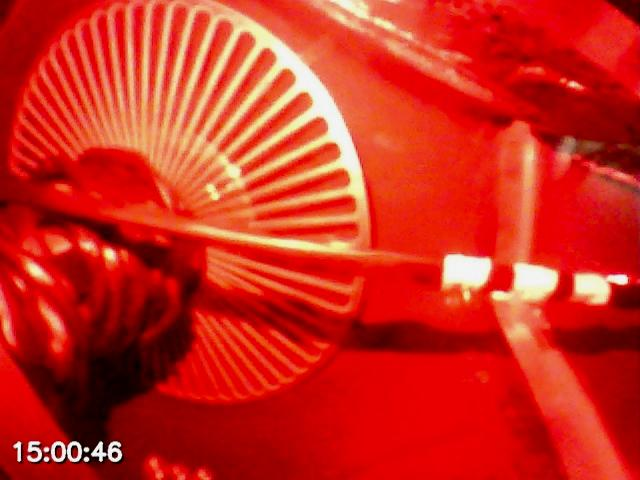white-dots: (442, 253, 610, 307)
